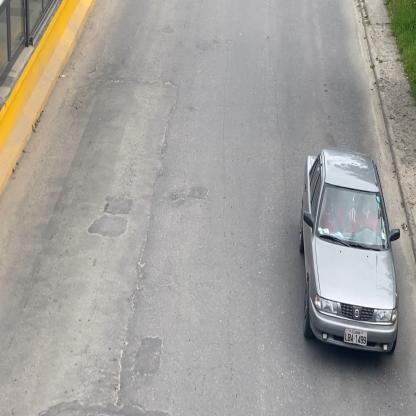Placa: (344, 328, 368, 350)
